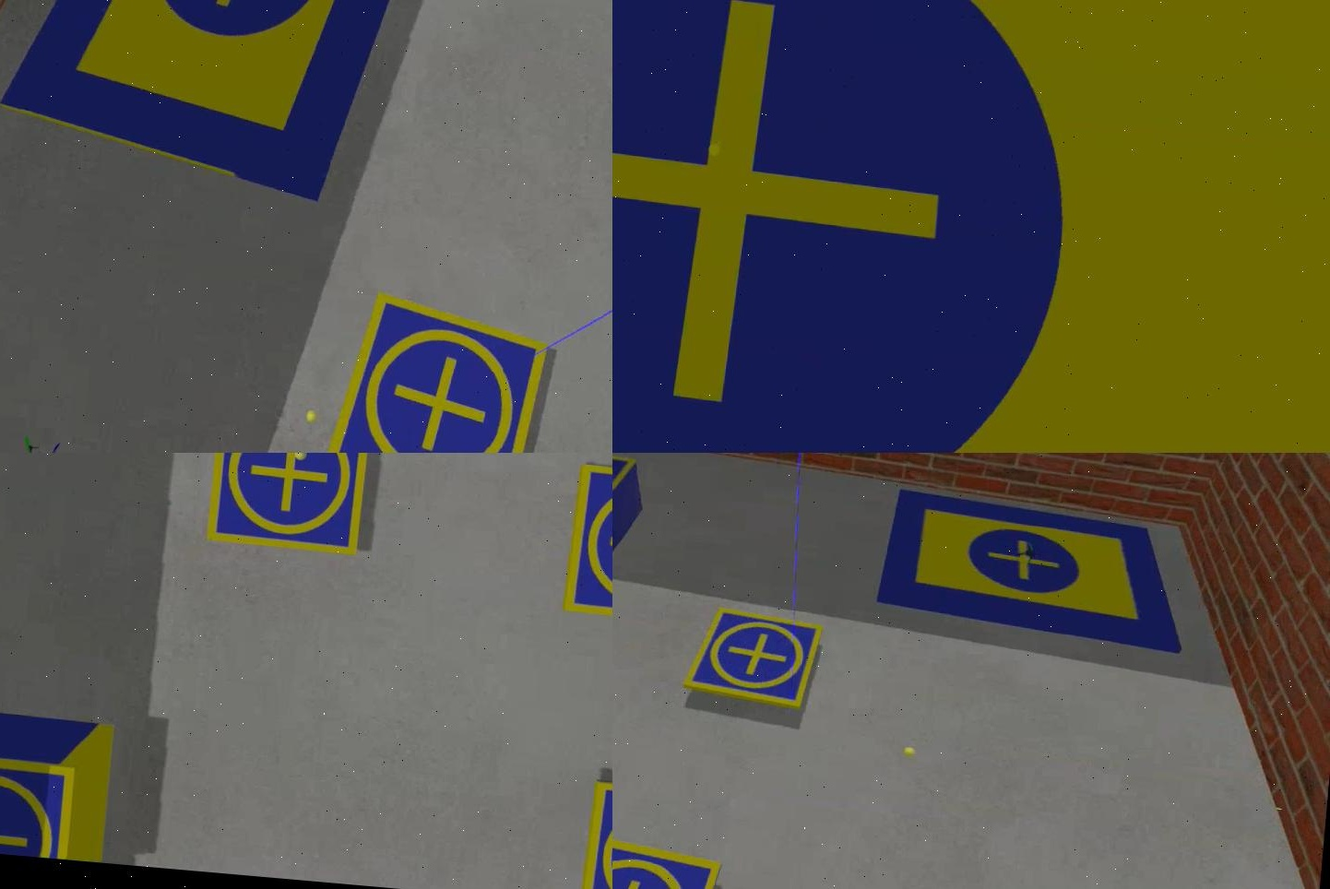large_base: (611, 1, 1328, 454), (0, 1, 449, 212), (869, 491, 1190, 653)
small_base: (317, 290, 555, 454), (203, 454, 373, 558), (680, 605, 824, 710), (561, 462, 611, 631), (0, 751, 75, 860)
